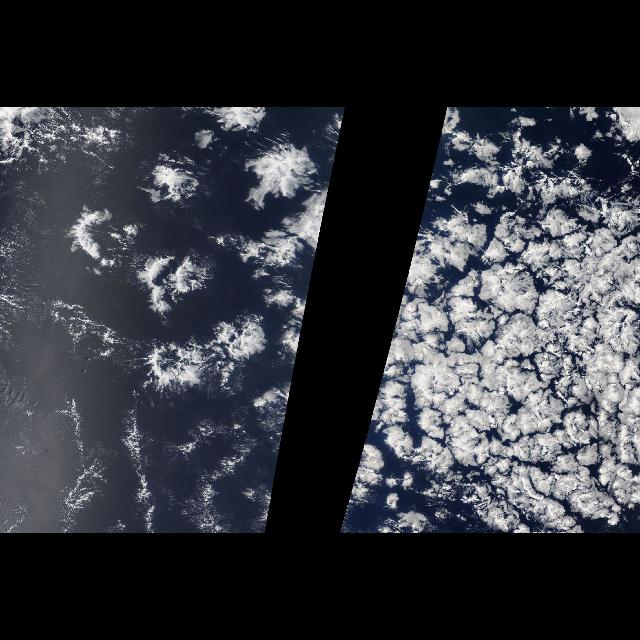Flower: (23, 109, 345, 533), (338, 109, 640, 533)
